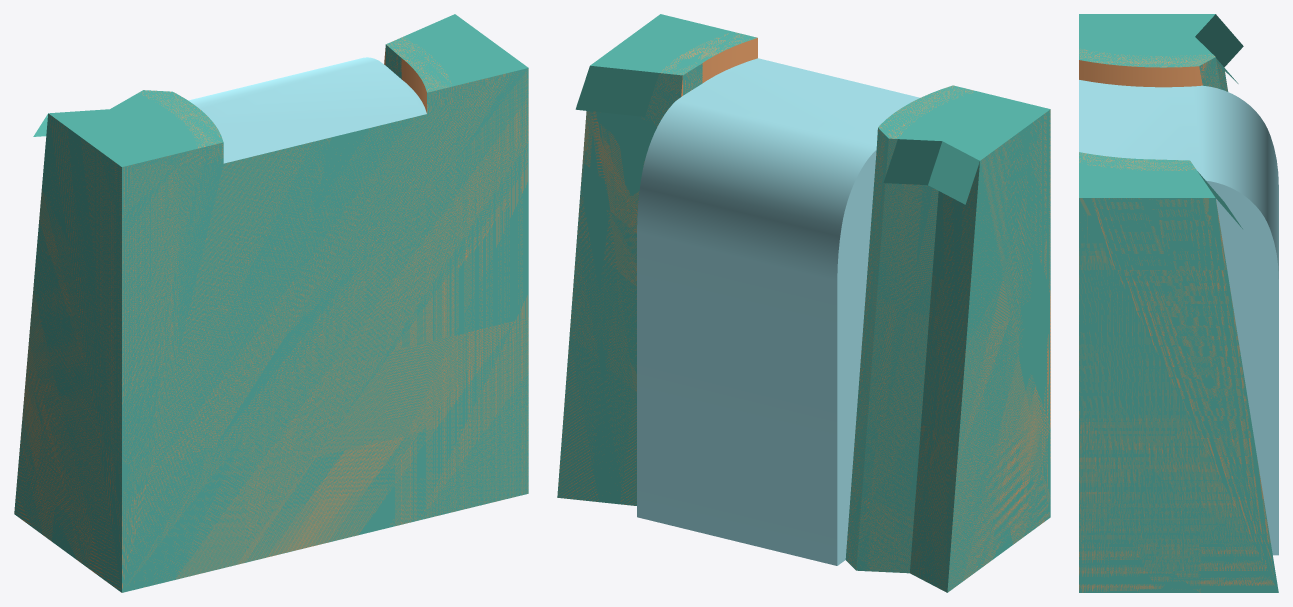
File: cliffBrown_waterfallTop.obj
3 renders of one model, left to right at view 1: azimuth 30°, elevation 25°; view 2: azimuth 150°, elevation 25°; view 3: azimuth 270°, elevation 25°, orthographic. The views are drawn at different scales.
Parts seen in each view (by area): view 1: cliffBrown_waterfallTop; view 2: cliffBrown_waterfallTop; view 3: cliffBrown_waterfallTop.
Boxes of the visible parts, x1=… form: cliffBrown_waterfallTop: x1=14, y1=14, x2=528, y2=592; cliffBrown_waterfallTop: x1=557, y1=14, x2=1050, y2=592; cliffBrown_waterfallTop: x1=1079, y1=14, x2=1278, y2=592.
Bounding box in the file's own units: 10 × 10 × 4.58.
